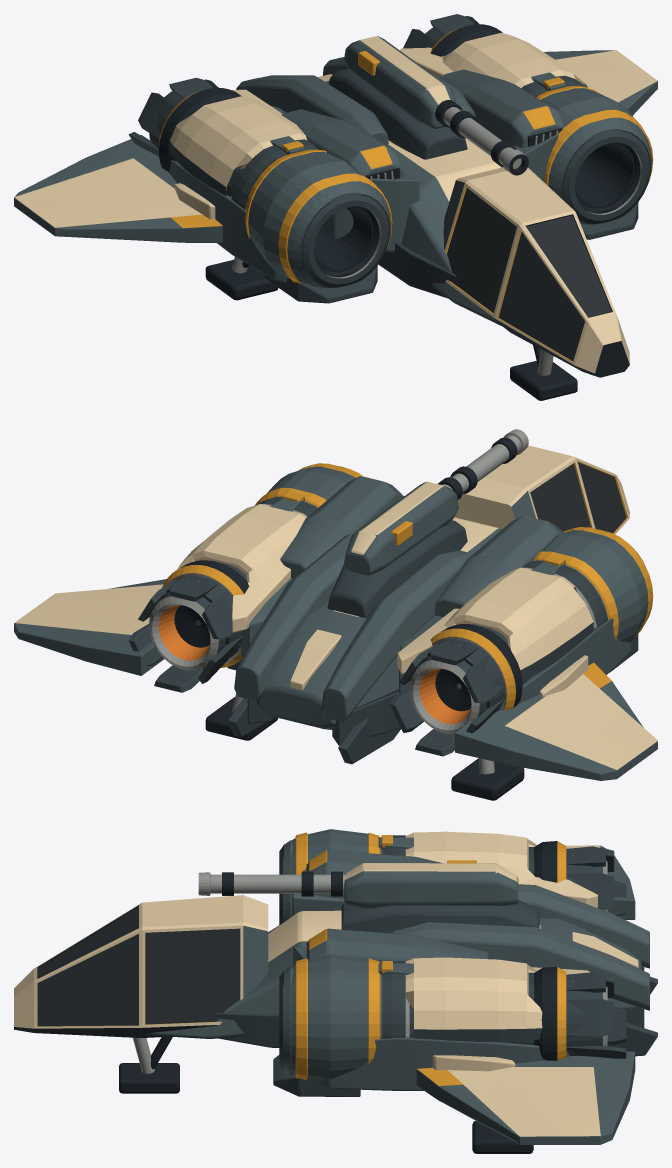
Rendered from buccaneer_01.glb.
3 renders of one model, top to bottom at view 1: azimuth 30°, elevation 25°; view 2: azimuth 150°, elevation 25°; view 3: azimuth 270°, elevation 25°, orthographic.
Parts seen in each view (by area): view 1: VH_Consolidated_LOD0; view 2: VH_Consolidated_LOD0; view 3: VH_Consolidated_LOD0.
Boxes of the visible parts, x1,y1,x2,y2 form: VH_Consolidated_LOD0: (14,14,657,400); VH_Consolidated_LOD0: (14,429,657,800); VH_Consolidated_LOD0: (14,829,657,1153).
Size of the model in its own units: 11.76 by 4.12 by 11.
Materials: 8 (8 with a texture image).
